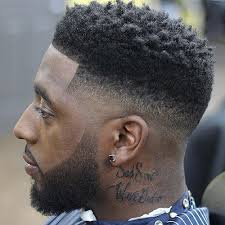black_male: (6, 48, 175, 207)
